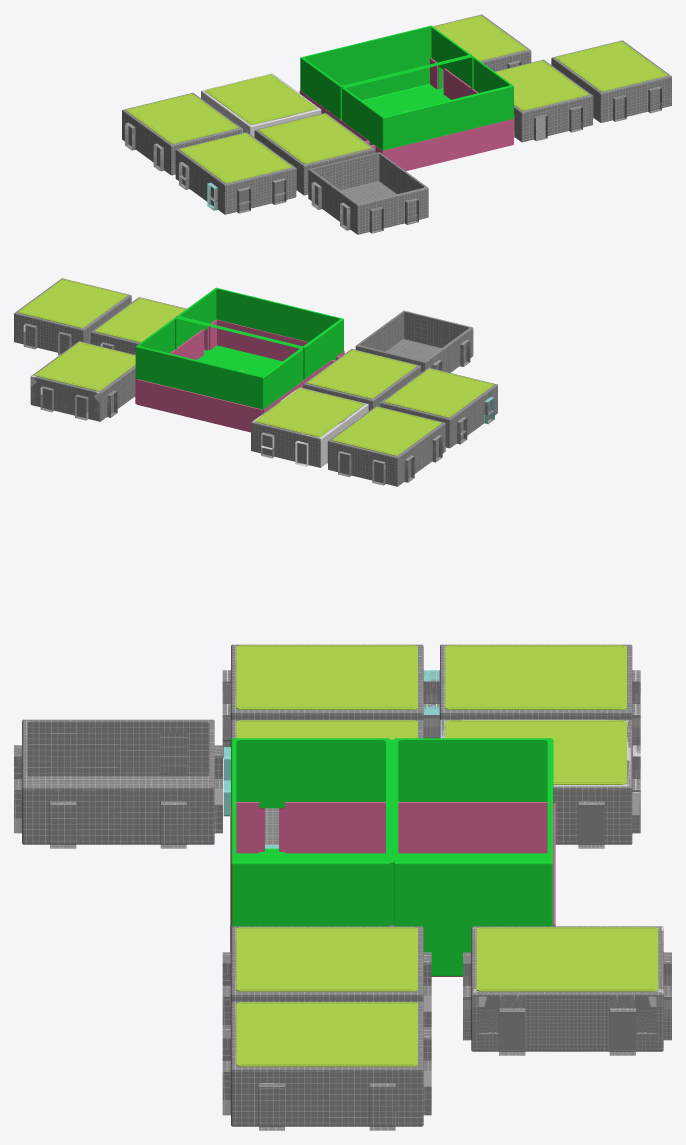
File: RoomsBGeom.fbx
3 views of the same model, one above another, from view 1: azimuth 30°, elevation 25°; view 2: azimuth 150°, elevation 25°; view 3: azimuth 270°, elevation 25° (orthographic). The views are drawn at different scales.
Parts seen in each view (by area): view 1: Room.014, Room.016, Cube.098, HighPolyRoom.006, HighPolyRoom.009, HighPolyRoom.012, HighPolyRoom.015, HighPolyRoom.021, Room.006, Room.004, HighPolyRoom.005, Room.020 (+17 smaller); view 2: Room.014, Room.016, Cube.102, HighPolyRoom.009, HighPolyRoom.021, HighPolyRoom.006, HighPolyRoom.012, HighPolyRoom.015, HighPolyRoom.018, Room.006, HighPolyRoom.005, Cube.098 (+20 smaller); view 3: Room.014, Room.016, Cube.088, Room.006, HighPolyRoom.005, HighPolyRoom.018, HighPolyRoom.021, HighPolyRoom.012, HighPolyRoom.015, Room.021, HighPolyRoom.009, Room.Door-hiding-panel.026 (+26 smaller).
Part boxes in pixels (box(x1,y1,x2,y2)): Room.014: box(300, 25, 513, 150); Room.016: box(308, 152, 428, 234); Cube.098: box(384, 119, 513, 170); HighPolyRoom.006: box(261, 115, 367, 162); HighPolyRoom.009: box(208, 75, 313, 123); HighPolyRoom.012: box(129, 95, 235, 142); HighPolyRoom.015: box(182, 134, 288, 181); HighPolyRoom.021: box(558, 42, 664, 89); Room.006: box(551, 40, 671, 122); Room.004: box(175, 132, 295, 214); HighPolyRoom.005: box(496, 62, 585, 109); Room.020: box(494, 59, 592, 142); Room.014: box(135, 287, 343, 409); Room.016: box(355, 310, 473, 372); Cube.102: box(136, 379, 262, 432); HighPolyRoom.009: box(258, 389, 361, 435); HighPolyRoom.021: box(21, 280, 124, 326); HighPolyRoom.006: box(310, 351, 413, 397); HighPolyRoom.012: box(335, 408, 438, 454); HighPolyRoom.015: box(387, 370, 490, 415); HighPolyRoom.018: box(37, 343, 135, 389); Room.006: box(14, 278, 131, 352); HighPolyRoom.005: box(98, 299, 184, 341); Cube.098: box(216, 319, 308, 361); Room.014: box(231, 738, 553, 976); Room.016: box(22, 719, 214, 844); Cube.088: box(285, 802, 547, 853); Room.006: box(231, 1001, 423, 1126); HighPolyRoom.005: box(241, 929, 413, 988); HighPolyRoom.018: box(481, 929, 653, 988); HighPolyRoom.021: box(241, 1004, 413, 1063); HighPolyRoom.012: box(450, 647, 622, 706); HighPolyRoom.015: box(241, 647, 413, 706); Room.021: box(471, 926, 663, 1051); HighPolyRoom.009: box(450, 722, 622, 781); Room.Door-hiding-panel.026: box(49, 733, 187, 844).
Size of what is drawn, in the model's own units: 64.24 by 6.32 by 29.14.
